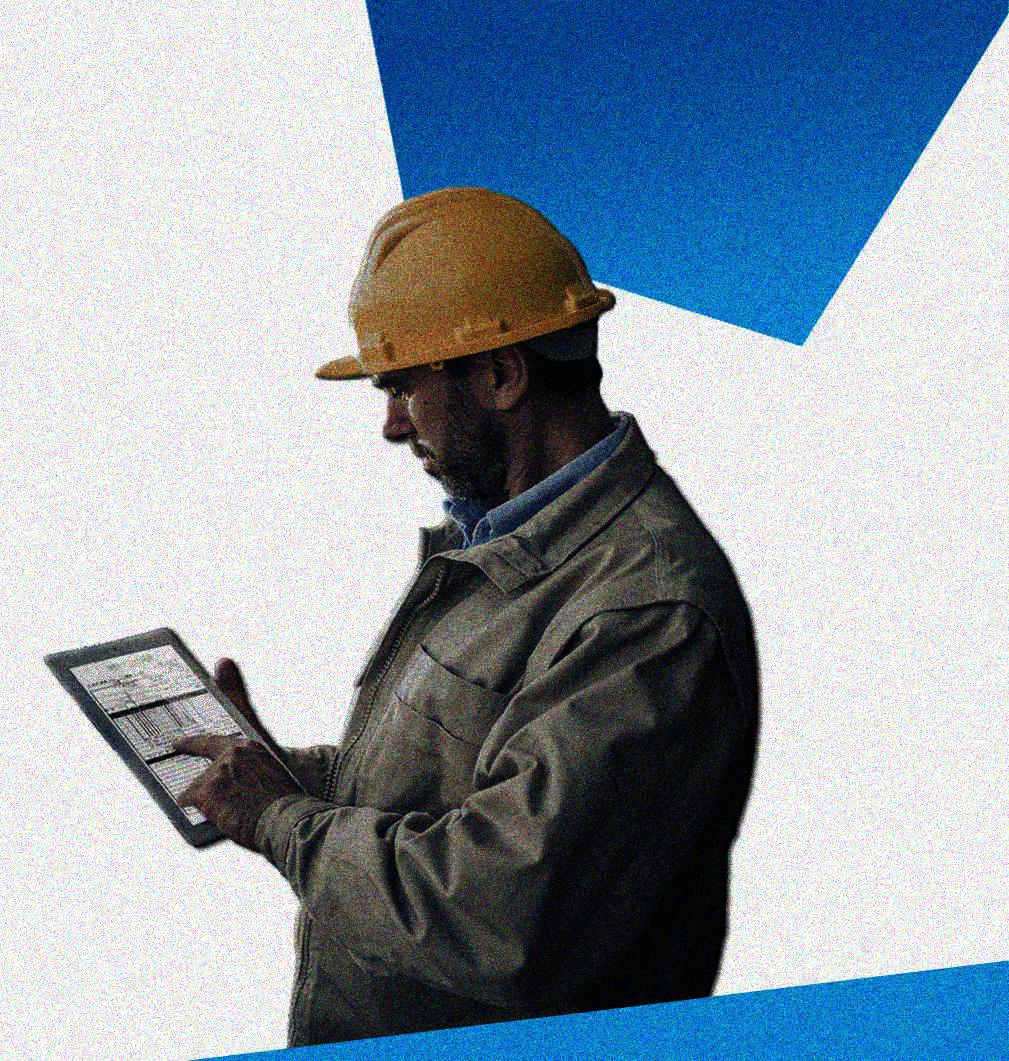helmet: (311, 184, 621, 497)
